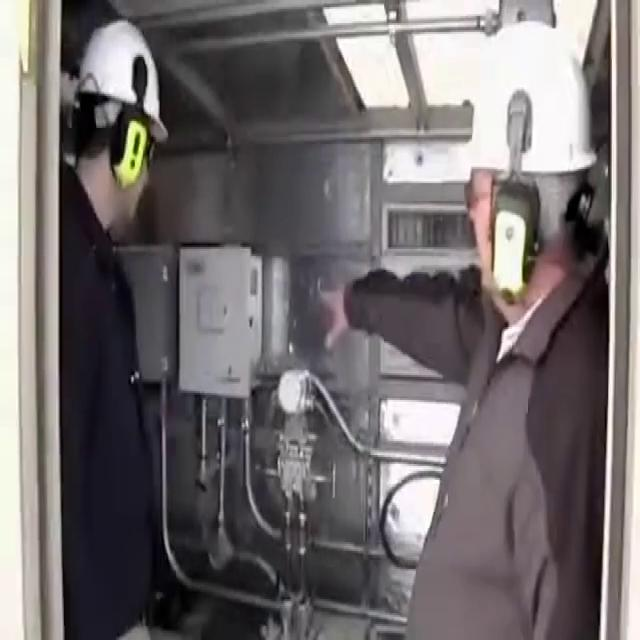earmuff: (488, 174, 544, 312), (108, 98, 151, 193)
helmet: (443, 17, 606, 199), (69, 10, 172, 148)
